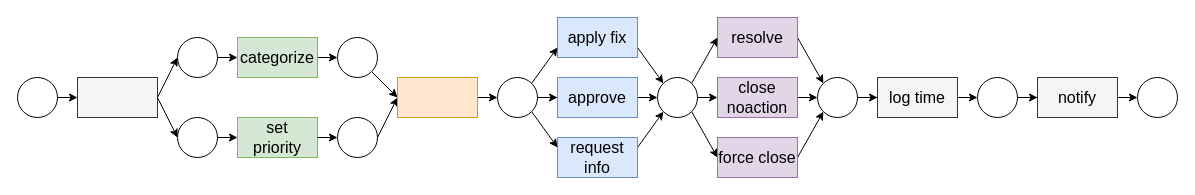
This 1195x195 diagram has some shape labels left out. The shapes that lost their labels are listed below. From the top down, each one's centre as x and y in pixels, then its label:
the point at 117,97: open
the point at 437,97: check kb
